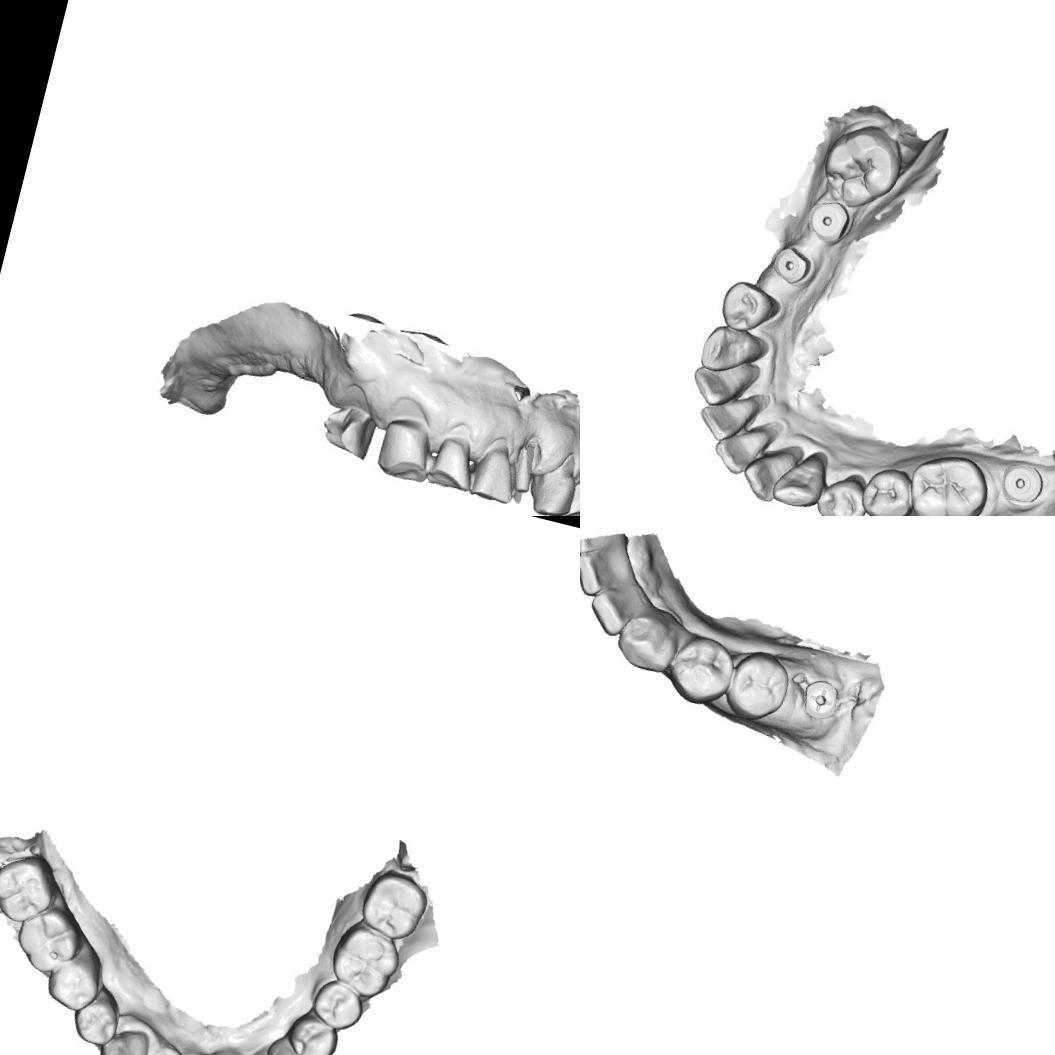canine: (611, 600, 681, 677), (766, 440, 834, 516), (693, 318, 768, 383), (89, 1021, 152, 1055), (255, 1035, 318, 1055)
implant: (798, 196, 854, 249), (996, 453, 1046, 507), (768, 239, 814, 290)
implant_plus: (797, 673, 846, 726)
incisor: (738, 435, 800, 506), (582, 580, 648, 644), (708, 414, 768, 482), (692, 389, 756, 447), (688, 356, 754, 411), (580, 542, 625, 606)
molar: (817, 117, 901, 210), (898, 442, 997, 516), (322, 919, 407, 1004), (5, 899, 88, 983), (353, 864, 433, 946), (0, 843, 65, 933)
premolar: (720, 646, 795, 727), (663, 630, 737, 710), (714, 274, 785, 339), (42, 953, 106, 1016), (306, 975, 369, 1036), (854, 458, 920, 516), (68, 986, 126, 1050), (809, 464, 872, 516), (279, 1005, 343, 1055)
